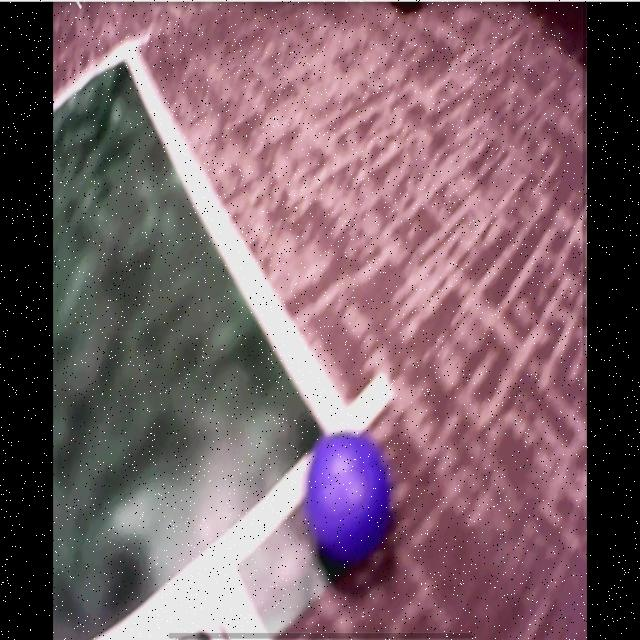ball: (312, 430, 389, 561)
